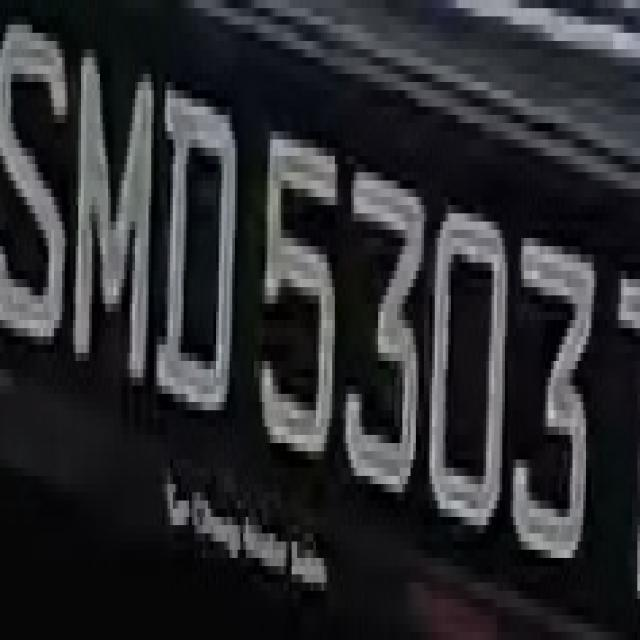0: (427, 156, 505, 566)
3: (505, 180, 594, 558), (346, 115, 418, 533)
5: (251, 82, 340, 476)
D: (159, 58, 235, 443)
M: (70, 24, 154, 386)
S: (3, 0, 73, 394)
